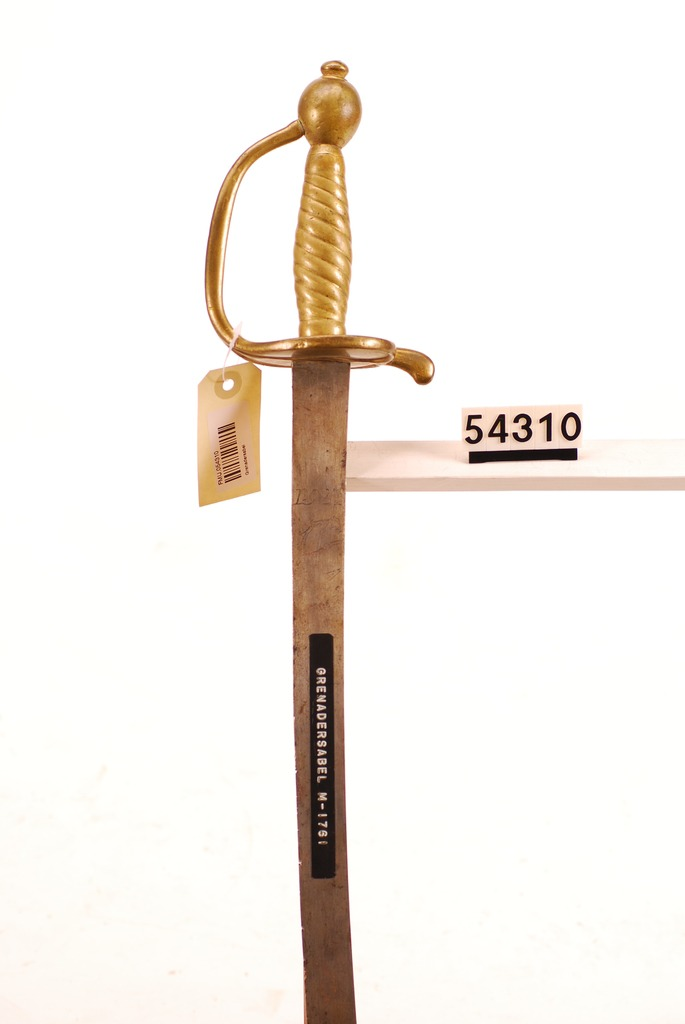sword: (188, 44, 504, 1024)
